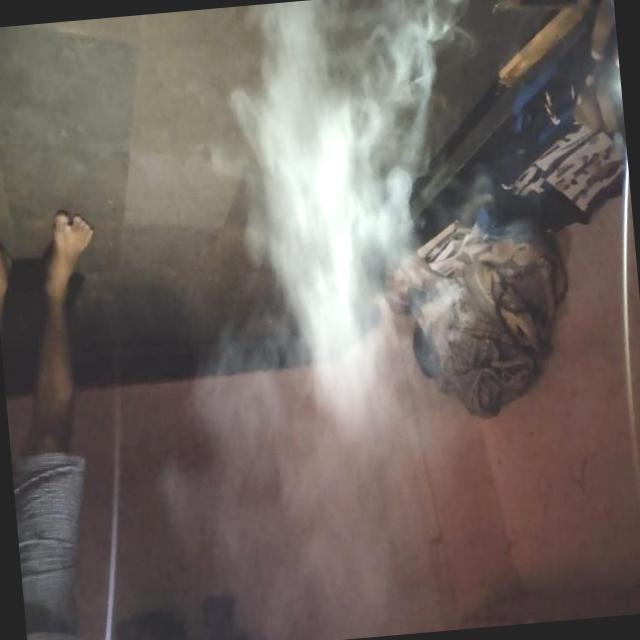smoke: (244, 58, 427, 404)
